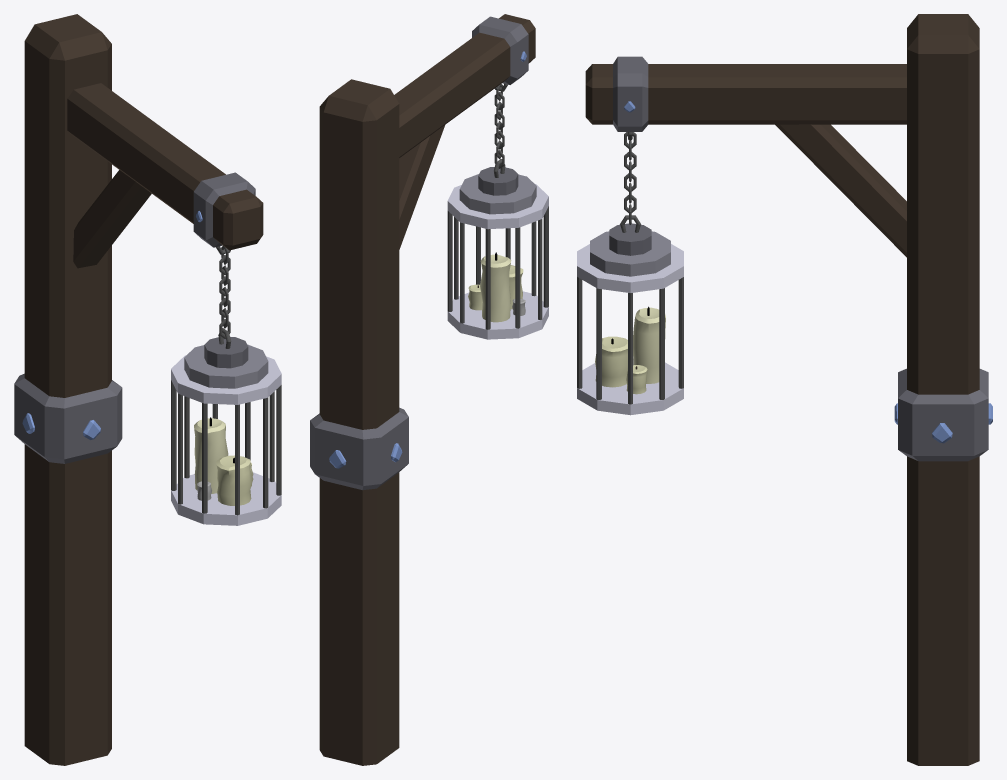
The model's file is lantaarn.fbx.
3 renders of one model, left to right at view 1: azimuth 30°, elevation 25°; view 2: azimuth 150°, elevation 25°; view 3: azimuth 270°, elevation 25°, orthographic. The views are drawn at different scales.
Visible parts, largest first — view 1: polySurface185; view 2: polySurface185; view 3: polySurface185.
Boxes of the visible parts, <box> form: polySurface185: <box>14,14,281,765</box>; polySurface185: <box>310,14,548,765</box>; polySurface185: <box>577,14,992,765</box>.
Bounding box in the file's own units: 1.55 × 11.03 × 5.72.
